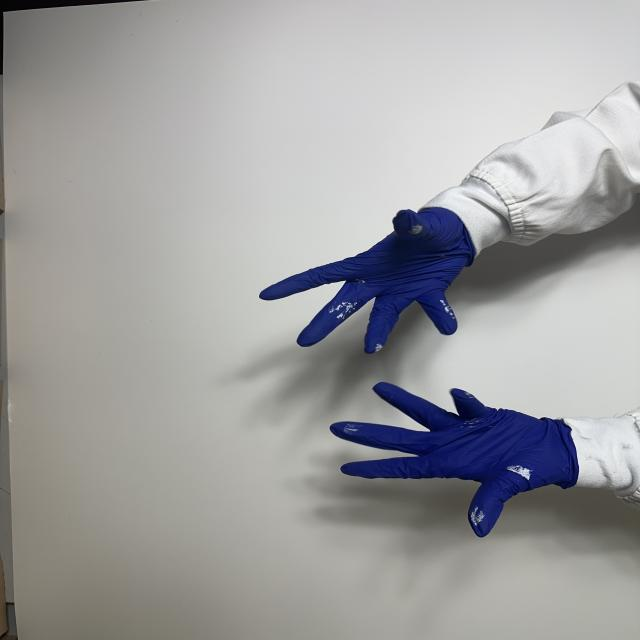gloves_contaminated: (331, 383, 578, 537), (260, 208, 476, 353)
